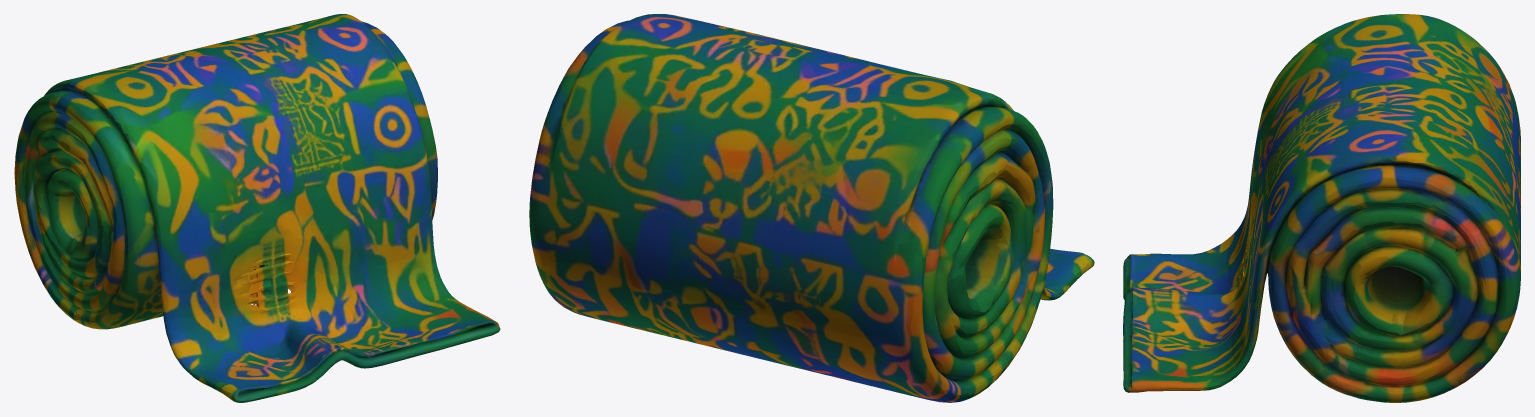
The model's file is ankara_roll.glb.
The picture shows the model from 3 angles, left to right: view 1: azimuth 30°, elevation 25°; view 2: azimuth 150°, elevation 25°; view 3: azimuth 270°, elevation 25°; orthographic projection. The views are drawn at different scales.
Visible parts, largest first — view 1: geometry_0; view 2: geometry_0; view 3: geometry_0.
Boxes of the visible parts, bbox=[...] form: geometry_0: bbox=[14, 14, 500, 402]; geometry_0: bbox=[529, 14, 1094, 402]; geometry_0: bbox=[1123, 14, 1520, 402].
Bounding box in the file's own units: 0.3 × 0.2049 × 0.3023.
1 material, 1 textured.
